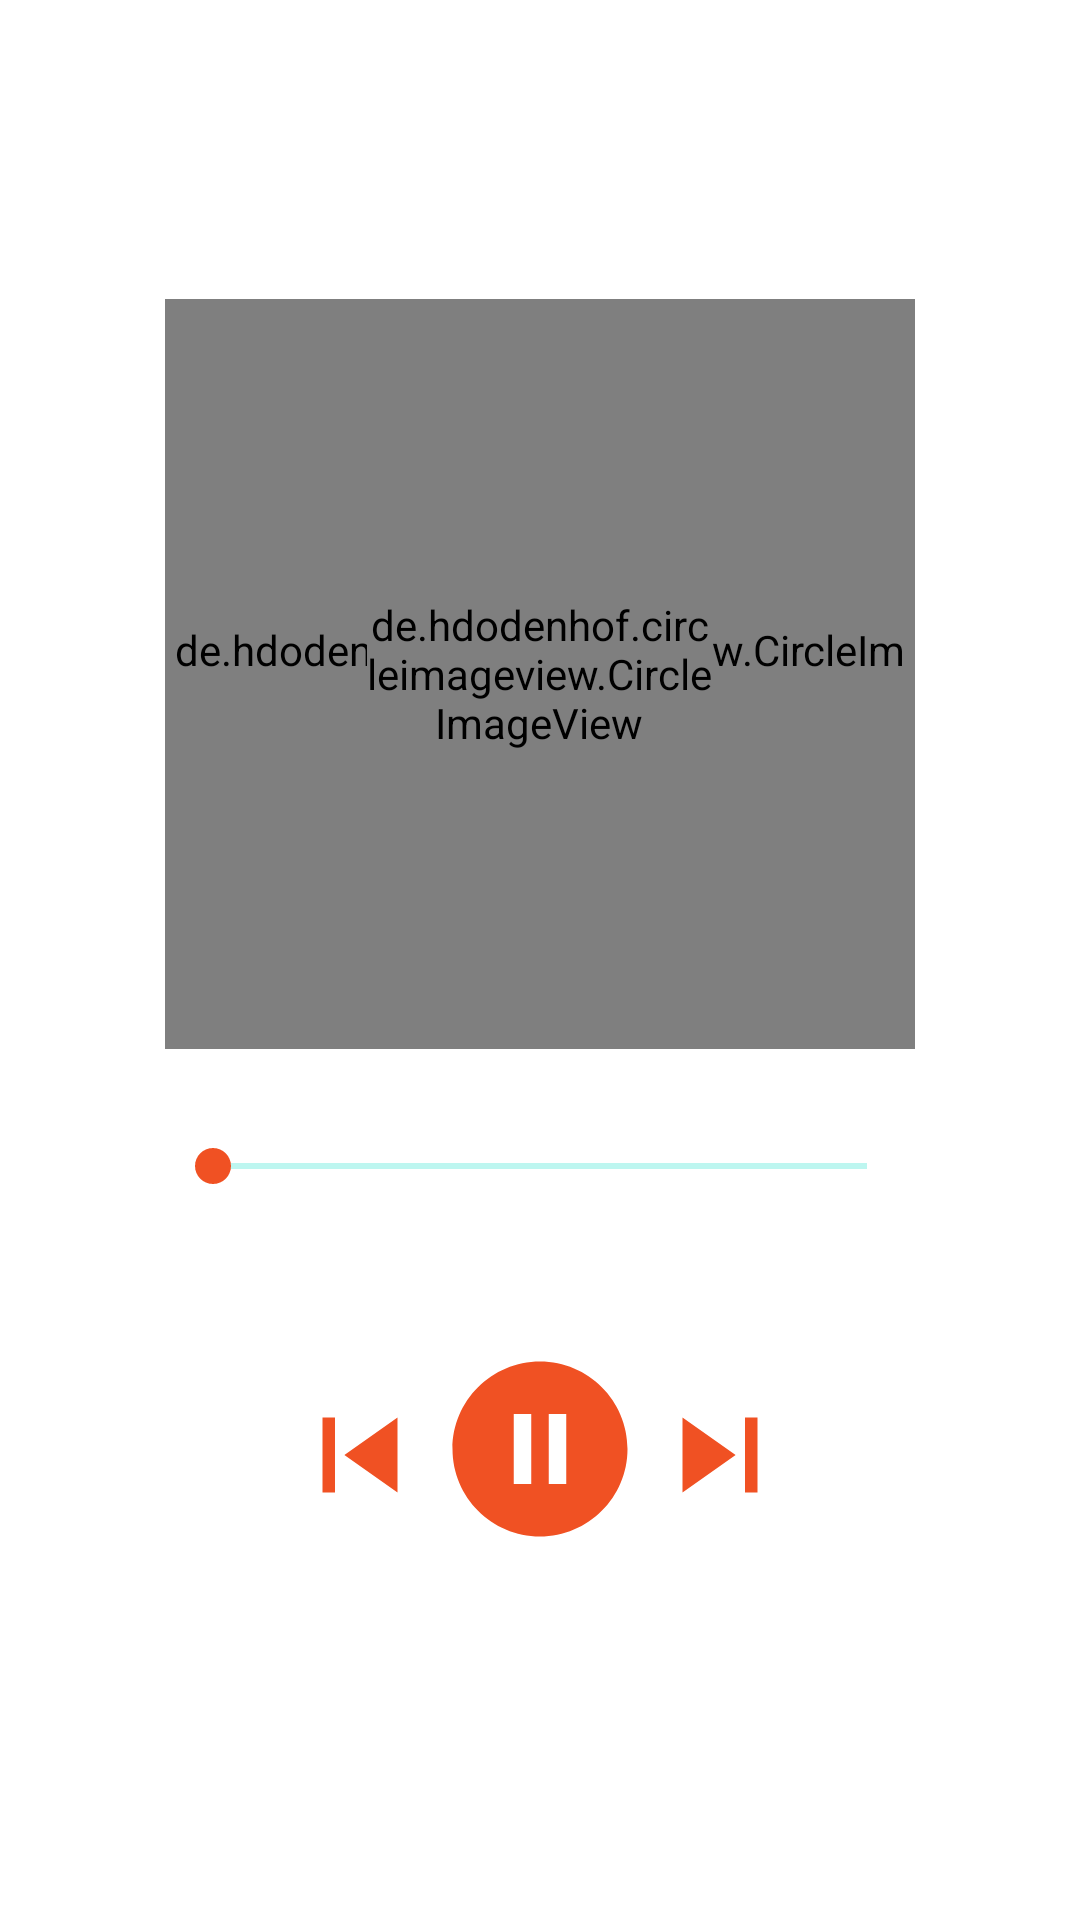

Screen size 1080*1920. Icon name, then its box in pixels as (x1, y1, x2, y2):
Next: (682, 1417, 758, 1493)
Play: (452, 1361, 628, 1537)
Prev: (322, 1417, 398, 1493)
